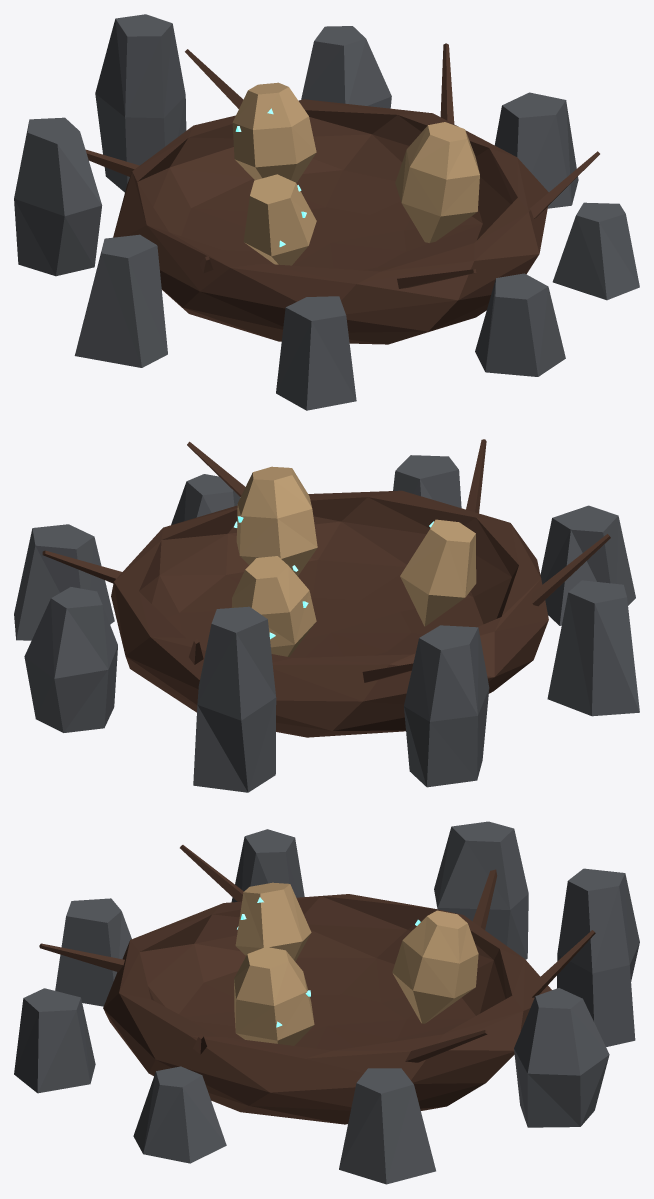
The model's file is CP_EggNest.fbx.
3 views of the same model, one above another, from view 1: azimuth 30°, elevation 25°; view 2: azimuth 150°, elevation 25°; view 3: azimuth 270°, elevation 25° (orthographic). The views are drawn at different scales.
Visible parts, largest first — view 1: CP_EggNest_Stones, CP_EggNest_Twigs, CP_EggNest_Egg; view 2: CP_EggNest_Stones, CP_EggNest_Twigs, CP_EggNest_Egg; view 3: CP_EggNest_Twigs, CP_EggNest_Stones, CP_EggNest_Egg.
Part boxes in pixels (x1,y1,x2,y2): CP_EggNest_Stones: (14,14,639,410); CP_EggNest_Twigs: (85,43,599,344); CP_EggNest_Egg: (232,82,479,265); CP_EggNest_Stones: (14,455,639,792); CP_EggNest_Twigs: (42,439,610,737); CP_EggNest_Egg: (231,466,476,656); CP_EggNest_Twigs: (39,845,595,1124); CP_EggNest_Stones: (14,821,639,1184); CP_EggNest_Egg: (234,882,478,1045).
Bounding box in the file's own units: 17 × 4.5 × 17.
